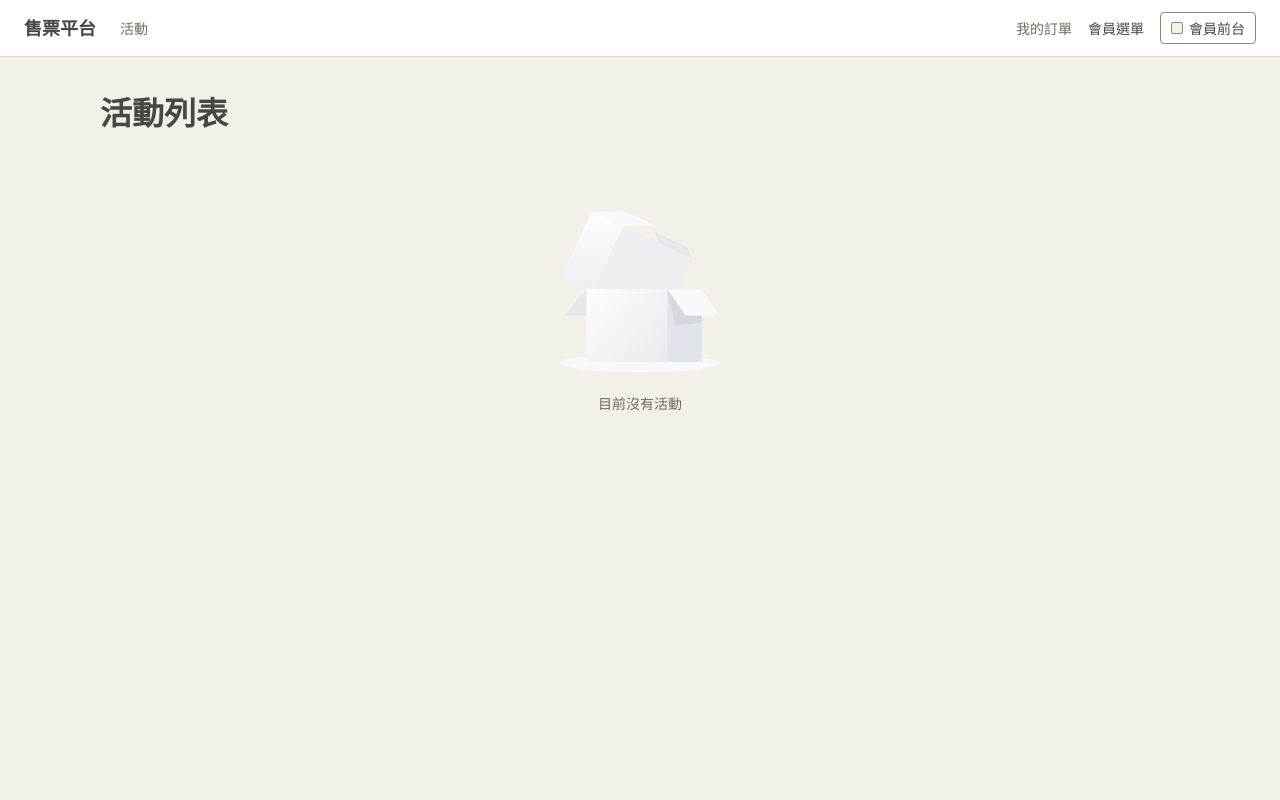
Scenario: BuyerLayout 會員下拉選單與區域切換選單 › [BW-ADMIN-ENTRY-001] 未切換 Organizer 的 Admin 從區域切換選單點平台管理，導向審核頁並顯示內容
The width and height of the screenshot is (1280, 800).
Step 1. Click the button with class "area-switcher-trigger" → (1208, 28), box [1160,12,1256,44]
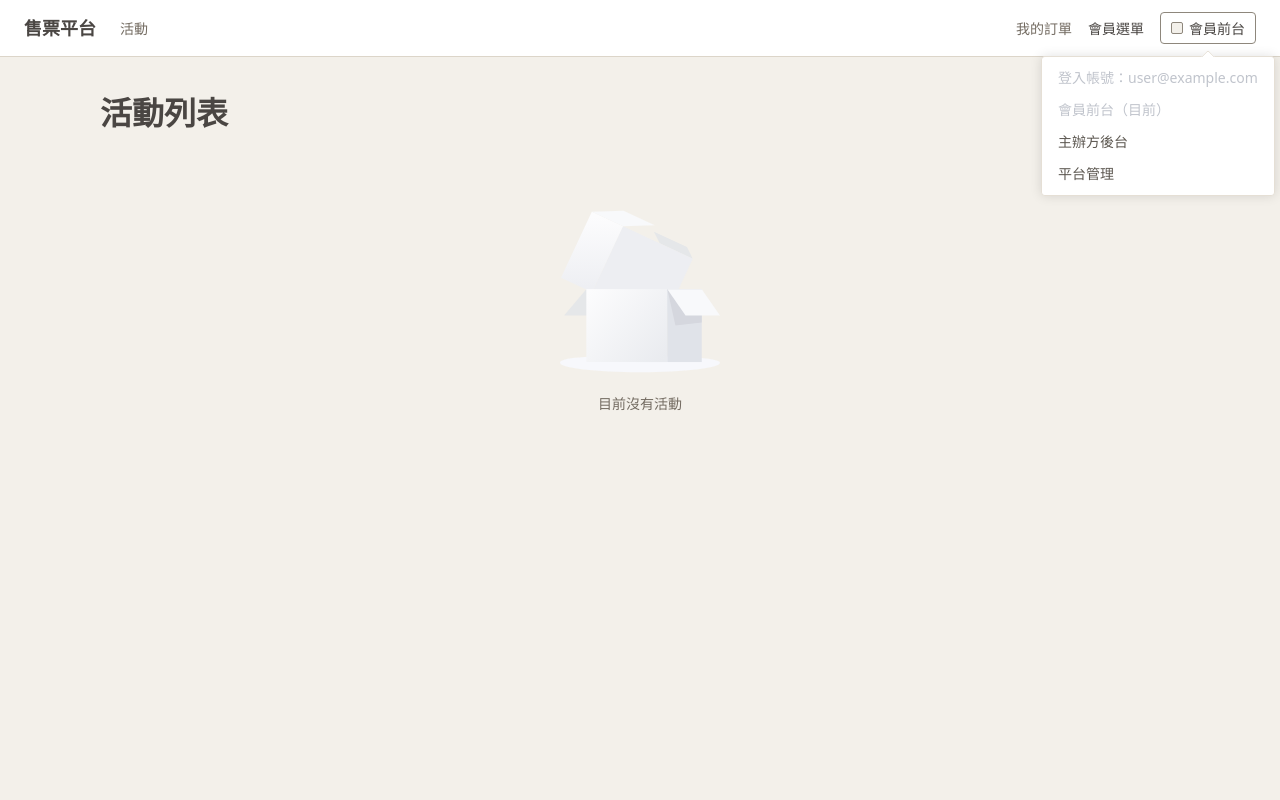
Step 2. Click the menu item "平台管理" → (1086, 174), box [1058,164,1114,183]
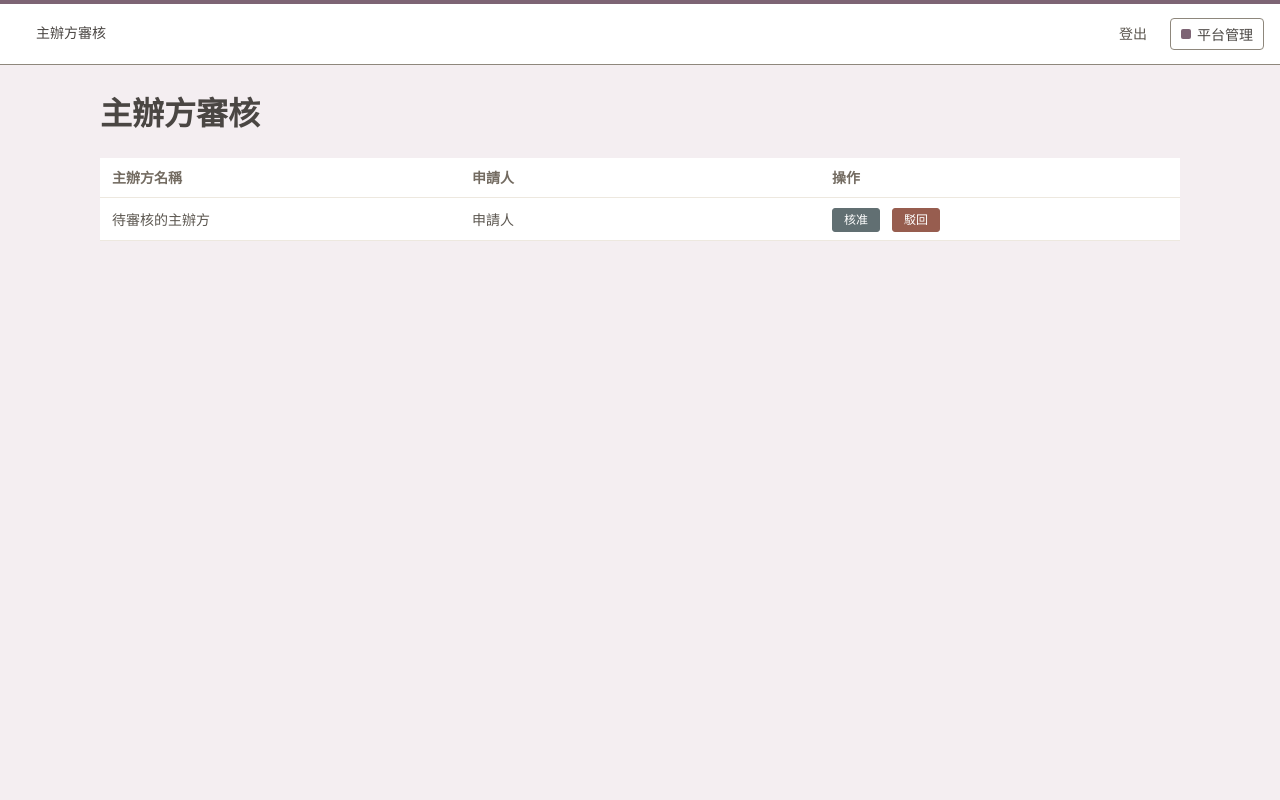
Result: the text "待審核的主辦方" is shown at [112,210,210,229]
